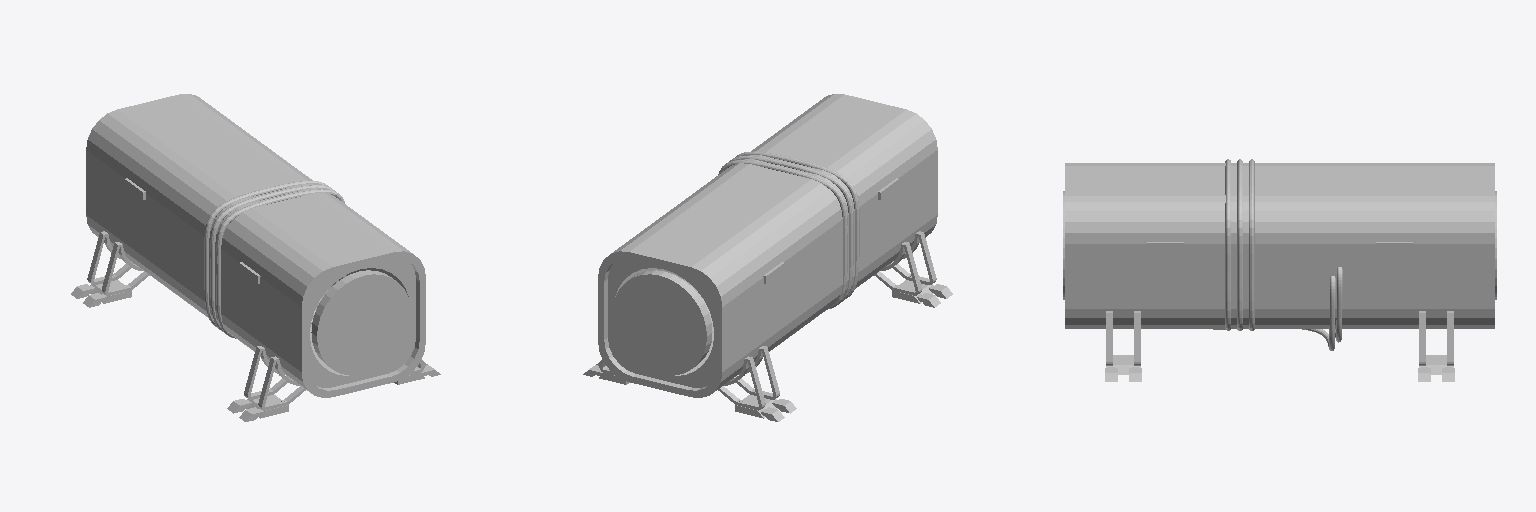
File: BaseModuleV1.0.obj
3 views of the same model, side by side, from view 1: azimuth 30°, elevation 25°; view 2: azimuth 150°, elevation 25°; view 3: azimuth 270°, elevation 25° (orthographic).
Visible parts, largest first — view 1: ModuleBody, ModuleDoorFrame, ModuleFoothold, ModuleRoundPipes; view 2: ModuleBody, ModuleDoorFrame, ModuleFoothold, ModuleRoundPipes; view 3: ModuleBody, ModuleRoundPipes, ModuleFoothold, ModuleSidePipes, ModuleSideWindows.
Part boxes in pixels (left/top/right/bottom): ModuleBody: left=86, top=94, right=425, bottom=397; ModuleDoorFrame: left=311, top=270, right=411, bottom=375; ModuleFoothold: left=71, top=231, right=440, bottom=421; ModuleRoundPipes: left=204, top=181, right=345, bottom=338; ModuleBody: left=598, top=94, right=937, bottom=397; ModuleDoorFrame: left=612, top=270, right=712, bottom=375; ModuleFoothold: left=583, top=231, right=952, bottom=421; ModuleRoundPipes: left=718, top=151, right=859, bottom=309; ModuleBody: left=1065, top=163, right=1494, bottom=328; ModuleRoundPipes: left=1225, top=159, right=1254, bottom=330; ModuleFoothold: left=1105, top=311, right=1454, bottom=381; ModuleSidePipes: left=1213, top=267, right=1342, bottom=350; ModuleSideWindows: left=1147, top=242, right=1412, bottom=250.
Bounding box in the file's own units: 3.15 × 2.41 × 6.03.